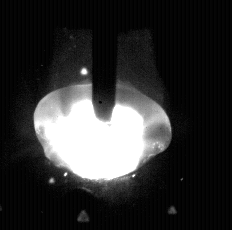arame: (93, 0, 118, 121)
poca: (33, 0, 170, 230)
